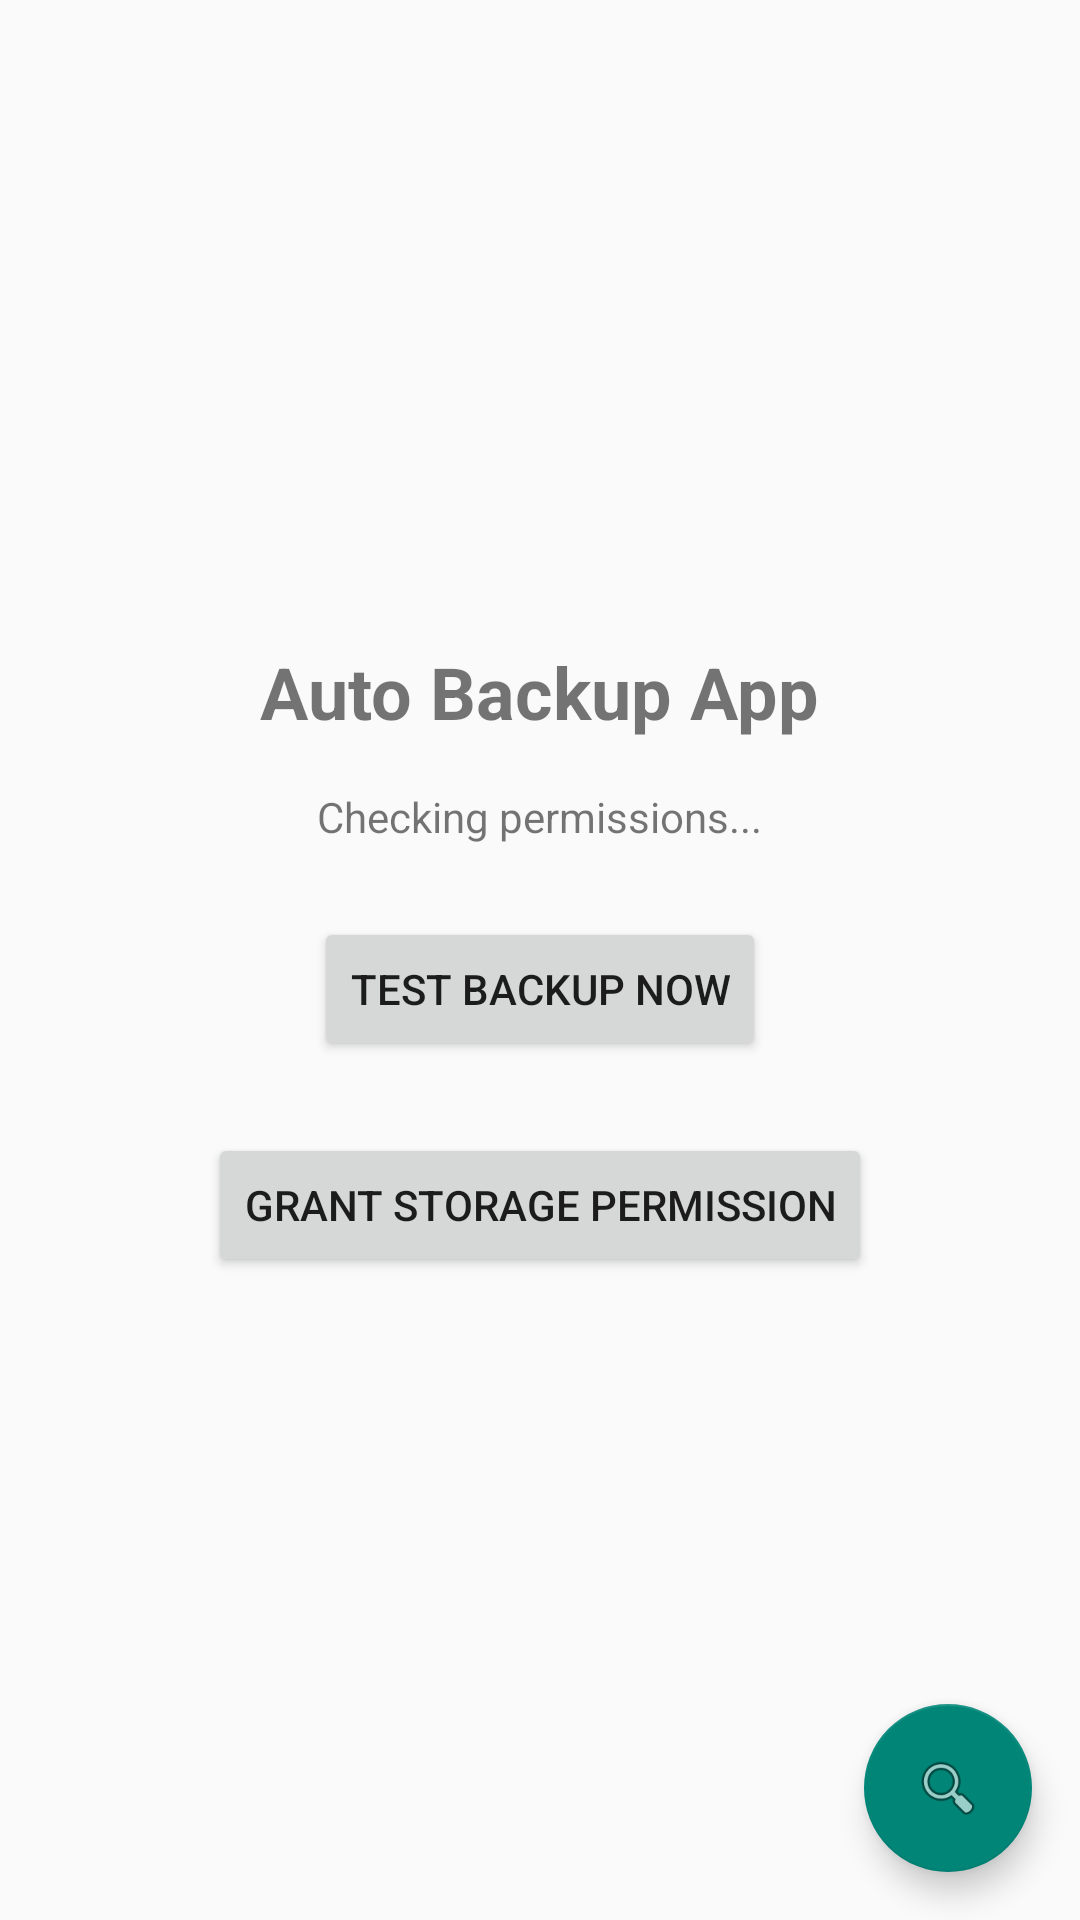

Icon click points for this 1080 x 1920 phone screenshot, format [x,y]:
Start File Scan: [948,1788]
